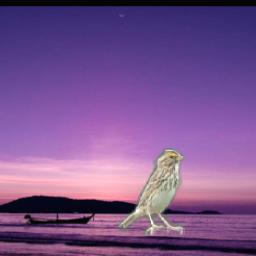Sparrow: (119, 148, 186, 235)
